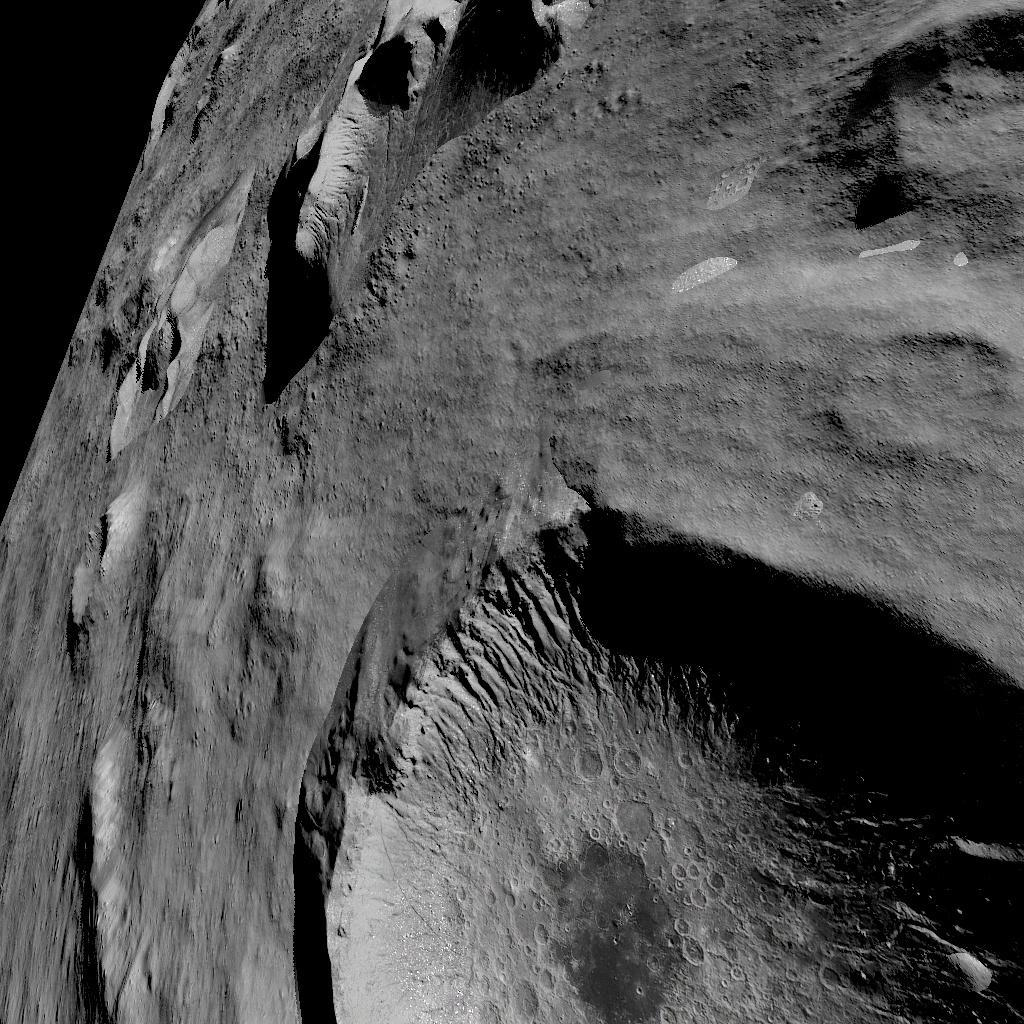Boulders: (270, 0, 644, 399), (102, 152, 260, 444)
Crater: (277, 508, 1024, 1024), (839, 8, 1024, 234), (811, 324, 1005, 484)
